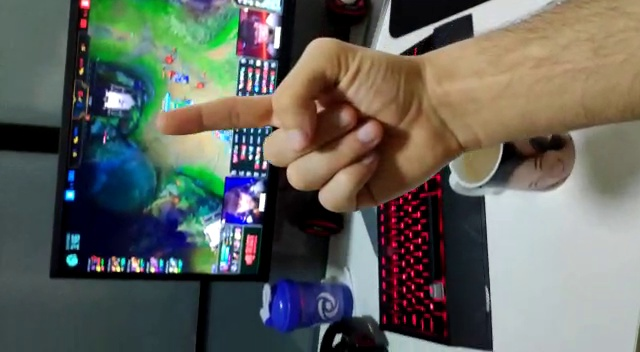One: (160, 39, 426, 203)
